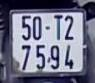0: (32, 15, 43, 42)
2: (64, 13, 77, 42)
4: (63, 44, 76, 71)
5: (20, 14, 32, 42), (35, 43, 46, 70)
7: (19, 44, 31, 71)
9: (50, 44, 61, 71)
T: (52, 13, 64, 42)
